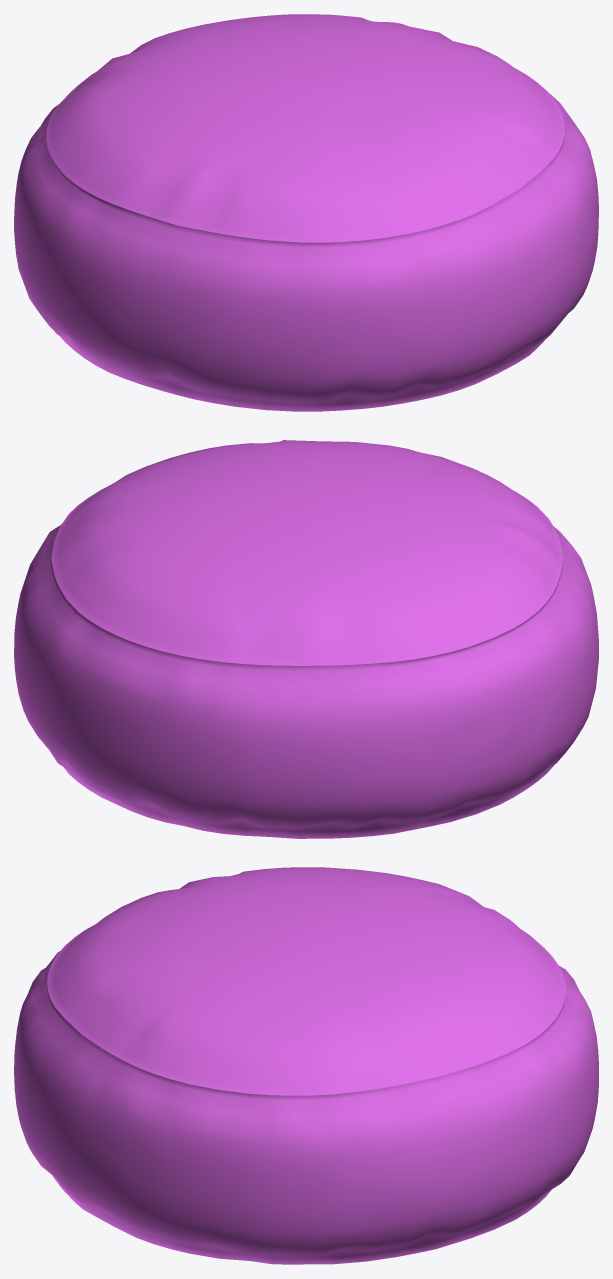
File: barbie puff.fbx
3 views of the same model, one above another, from view 1: azimuth 30°, elevation 25°; view 2: azimuth 150°, elevation 25°; view 3: azimuth 270°, elevation 25° (orthographic).
Visible parts, largest first — view 1: Nedra:LowRedondo; view 2: Nedra:LowRedondo; view 3: Nedra:LowRedondo.
Part boxes in pixels (x1,y1,x2,y2): Nedra:LowRedondo: [14, 14, 598, 411]; Nedra:LowRedondo: [14, 440, 598, 838]; Nedra:LowRedondo: [14, 867, 598, 1264].
Bounding box in the file's own units: 22.45 × 9.71 × 22.45.
